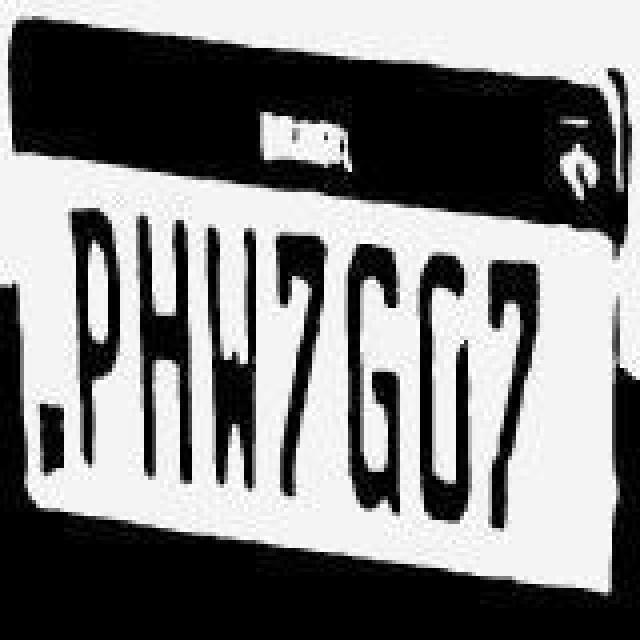7: (270, 214, 338, 514), (480, 254, 552, 530)
D: (418, 236, 478, 524)
G: (348, 238, 412, 522)
H: (128, 210, 200, 494)
P: (68, 198, 124, 482)
W: (202, 216, 262, 504)
